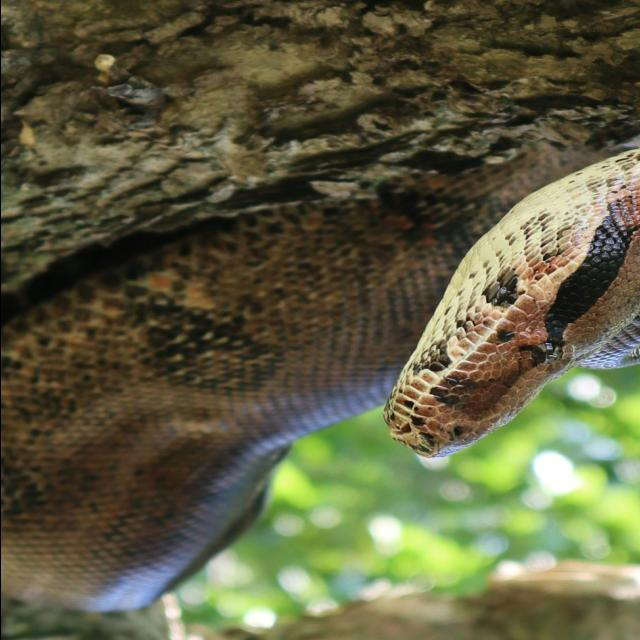snake: (0, 76, 640, 632)
